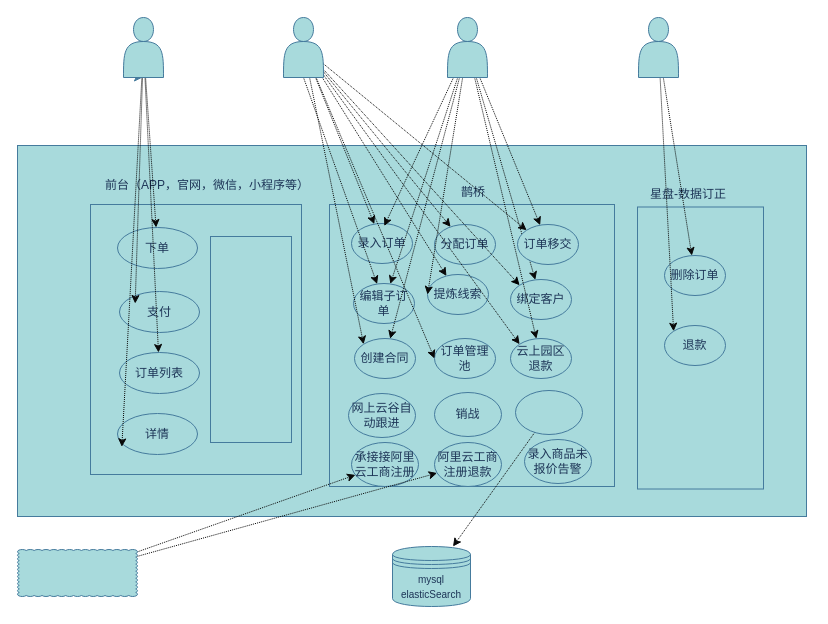
Some shapes in this 828 by 624 pixel diagram are drawn without their labels. Here are the shapes that lost their labels. From the top down, the centre of each, then its label:
At (x=143, y=47): "企业主".
At (x=303, y=47): "销售 主管".
At (x=467, y=47): "销售".
At (x=658, y=47): "星盘 订正员".
At (x=251, y=339): "支付对接渠道 1.支付宝pc 2.支付宝app 3.支付宝小程序 4.支付宝网页 5.微信公众号 6.微信小程序 7.招商银行".
At (x=548, y=412): "列表查询".
At (x=77, y=572): "阿里云推送".
